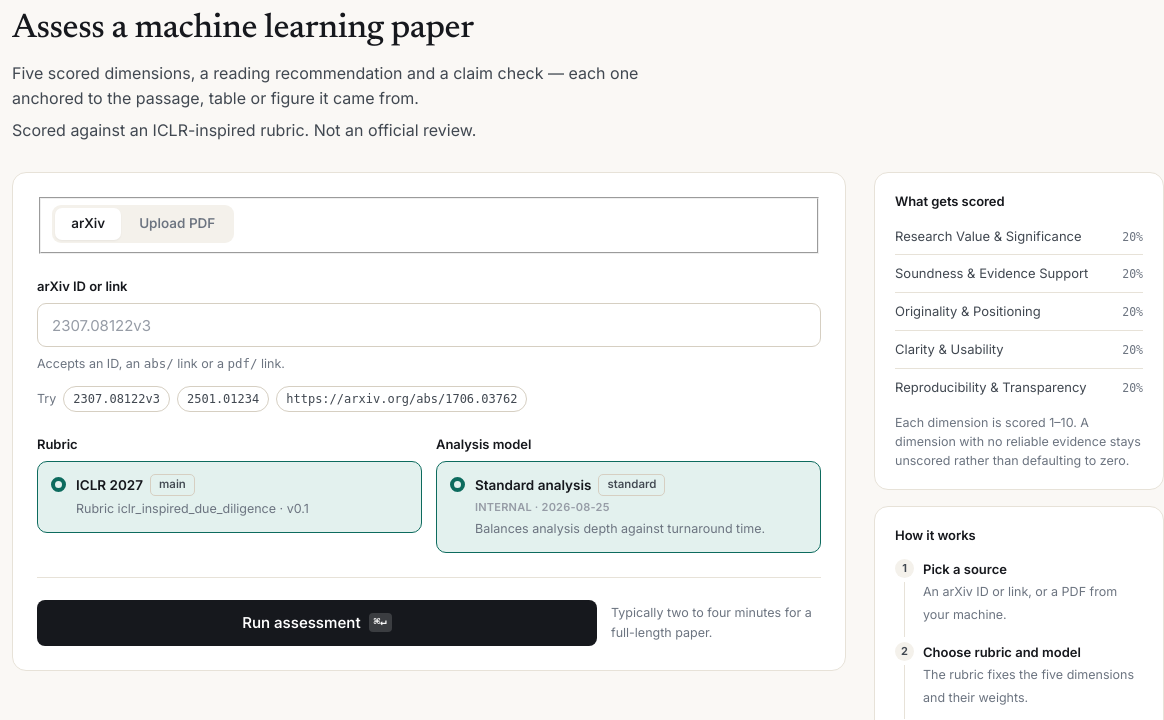
Test: InputWorkspace › explains why an ArXiv input was rejected instead of failing generically
The width and height of the screenshot is (1164, 720).
Type "invalid" into the field labelled "arXiv ID or link".
click(429, 325); type("invalid")  # box [37, 303, 821, 347]
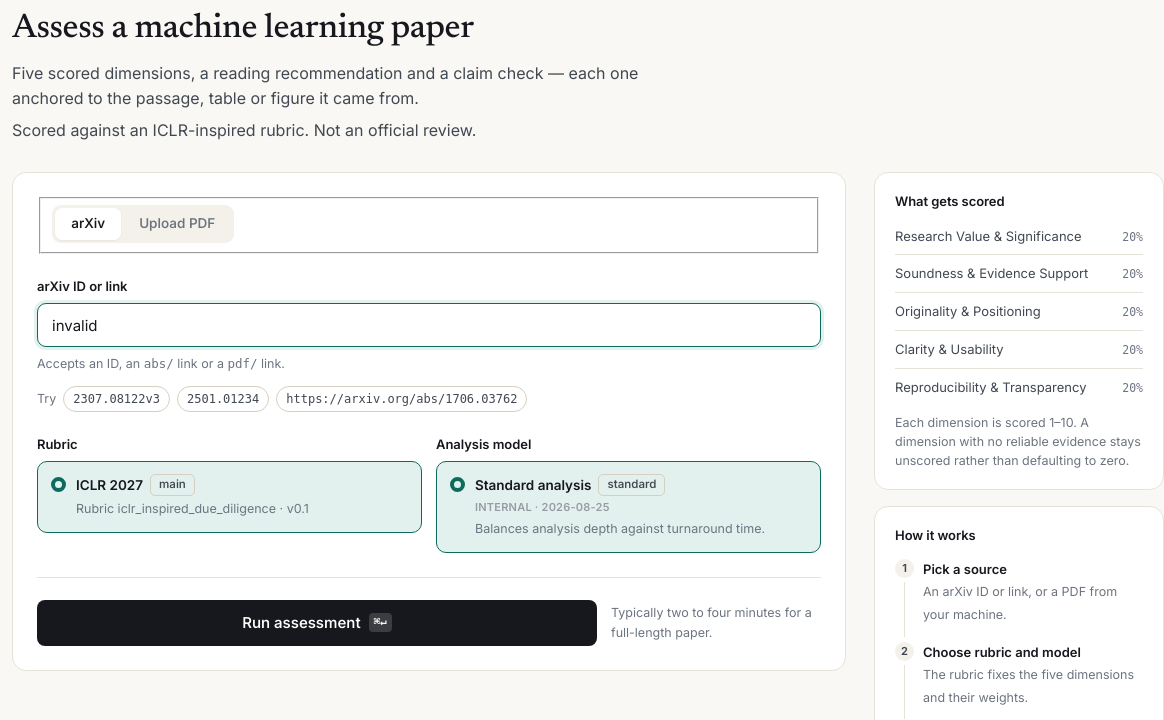
Click the button "Run assessment ⌘↵".
click(317, 623)  # box [37, 600, 597, 646]
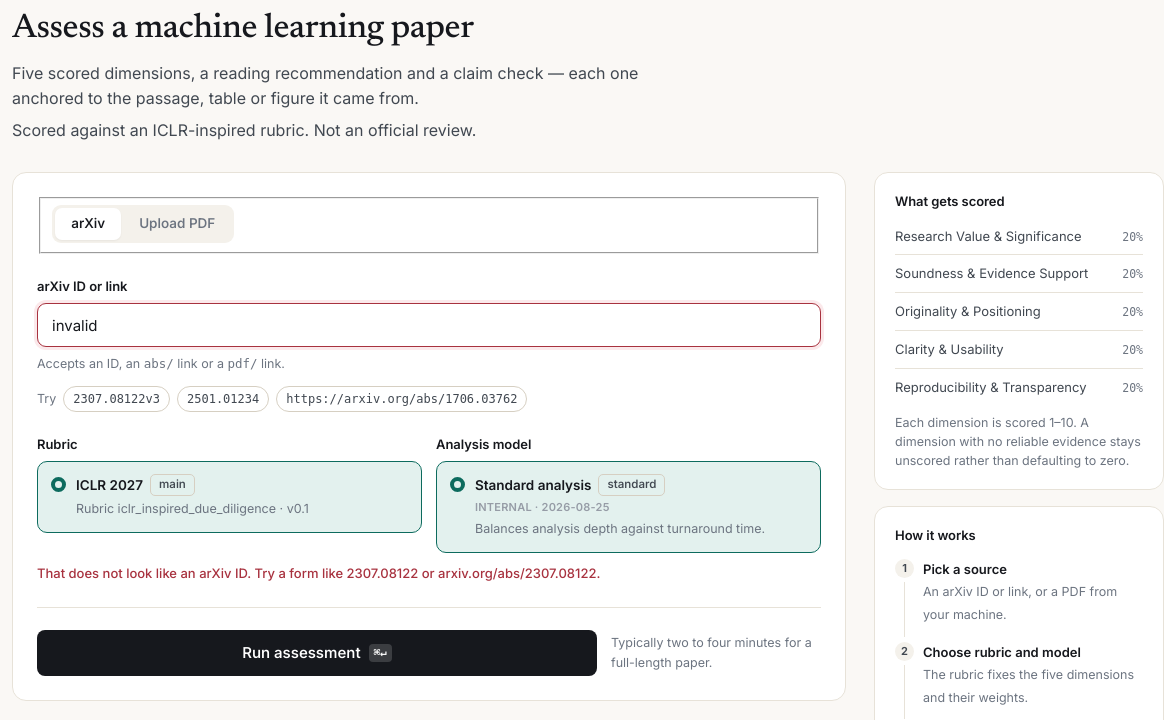
expect the message shows "does not look like an arXiv ID": met, box [37, 565, 600, 581]
